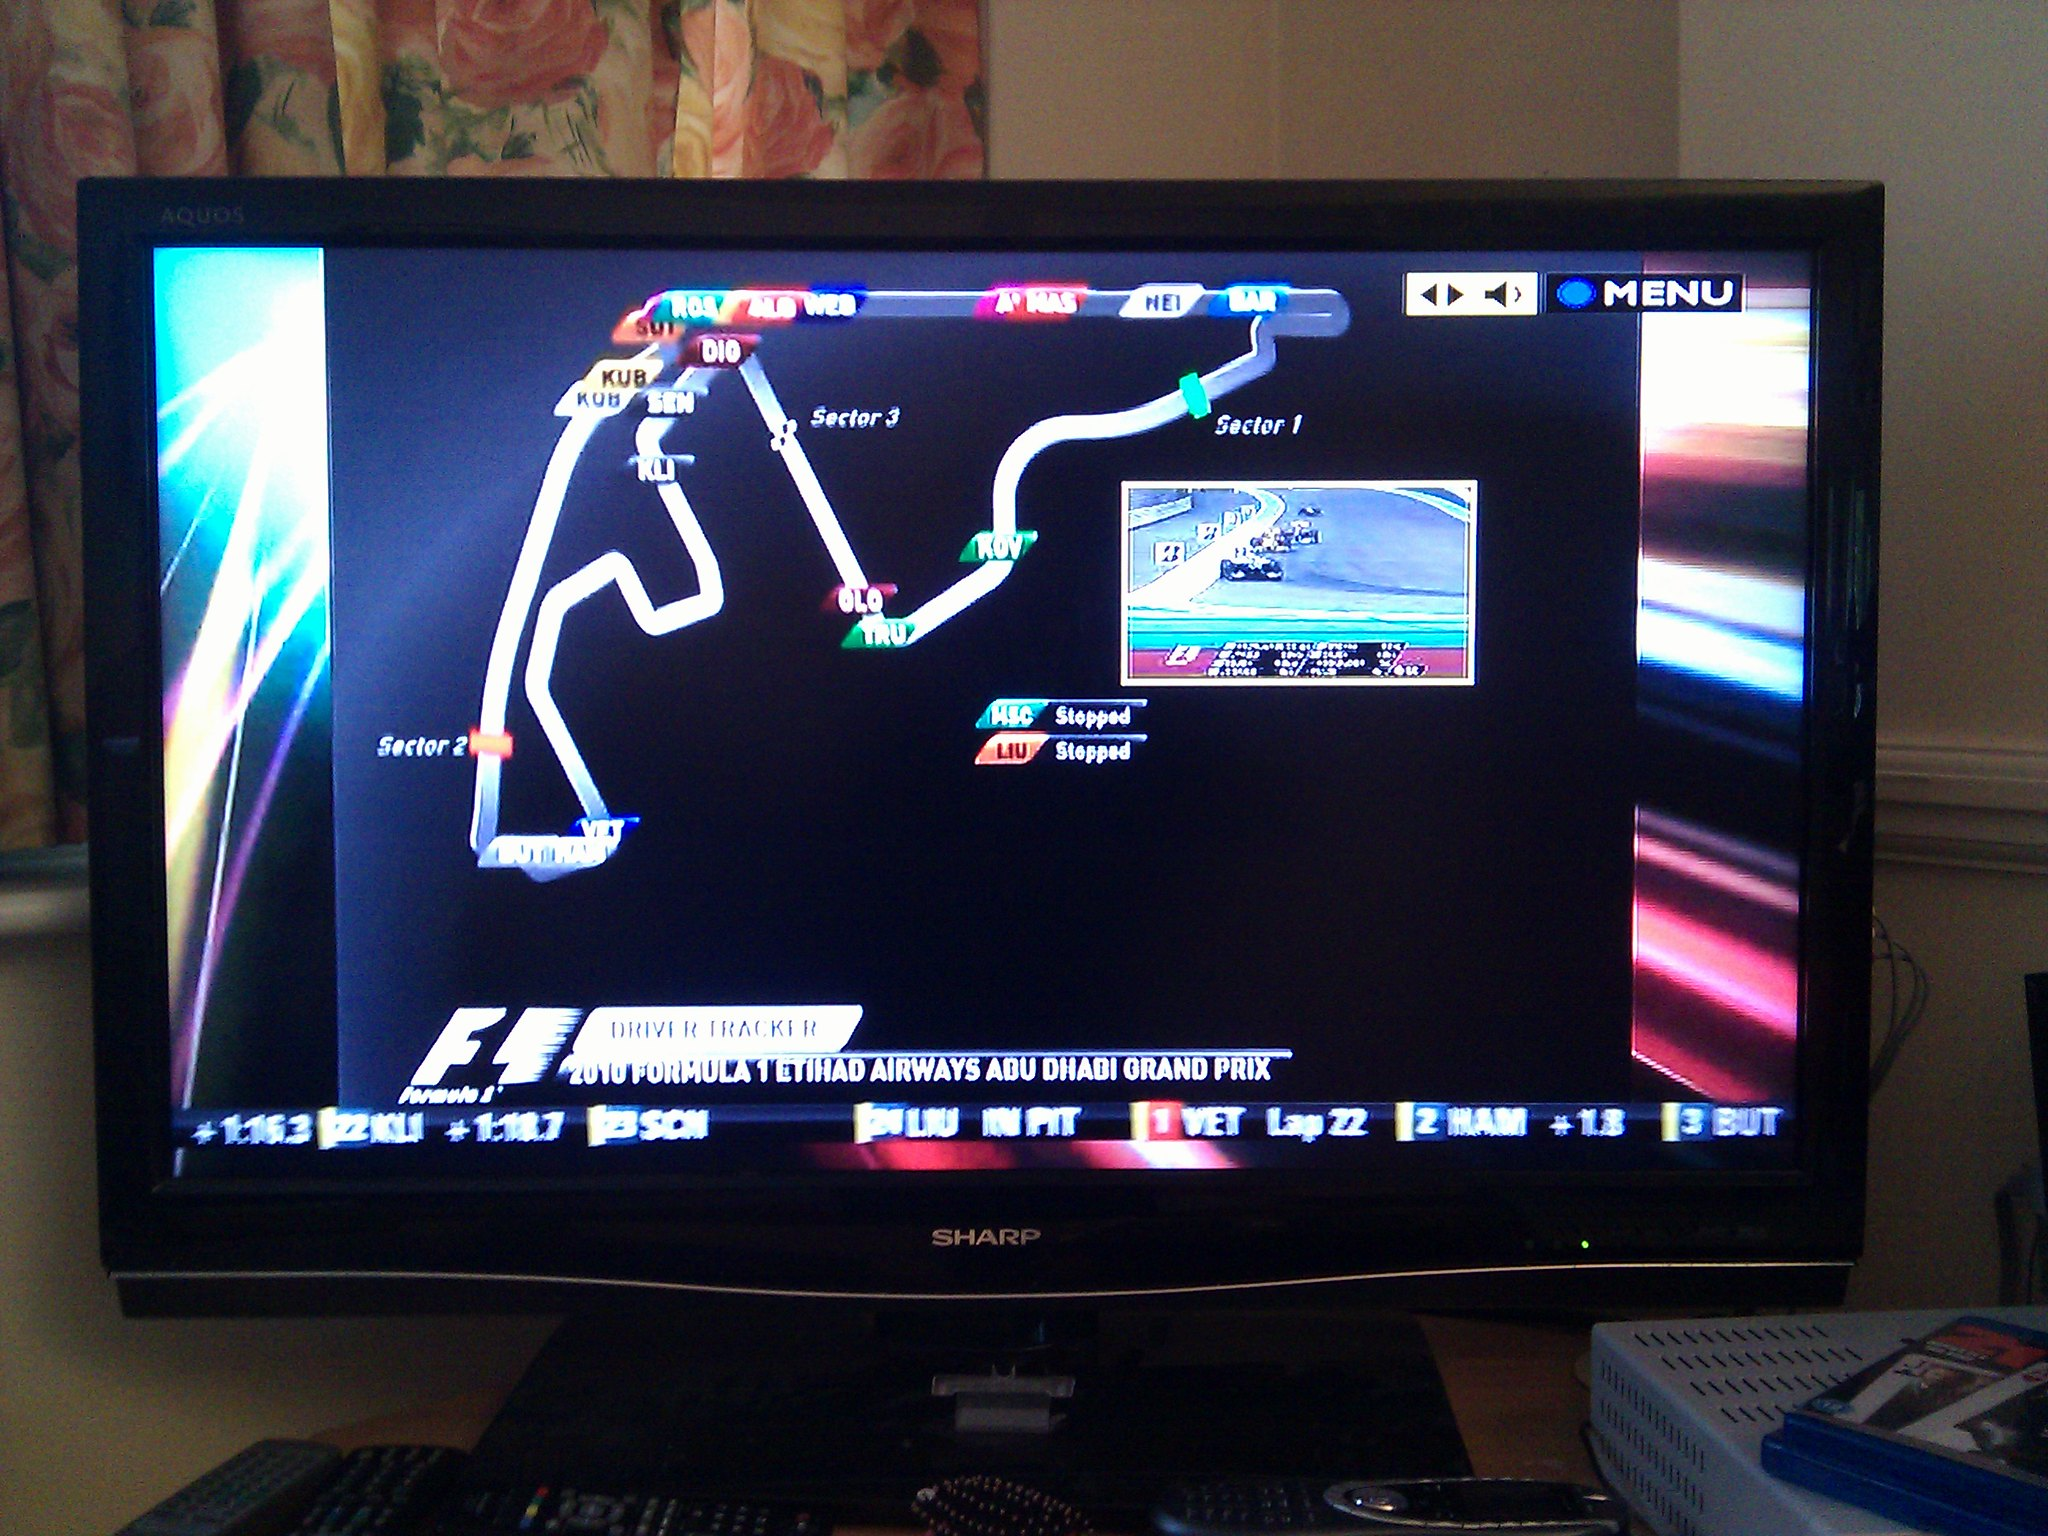tv monitor: (76, 174, 1880, 1342)
